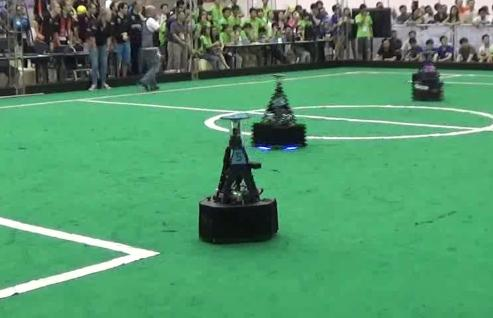robot: (198, 116, 282, 245), (250, 73, 308, 153), (408, 50, 448, 103)
